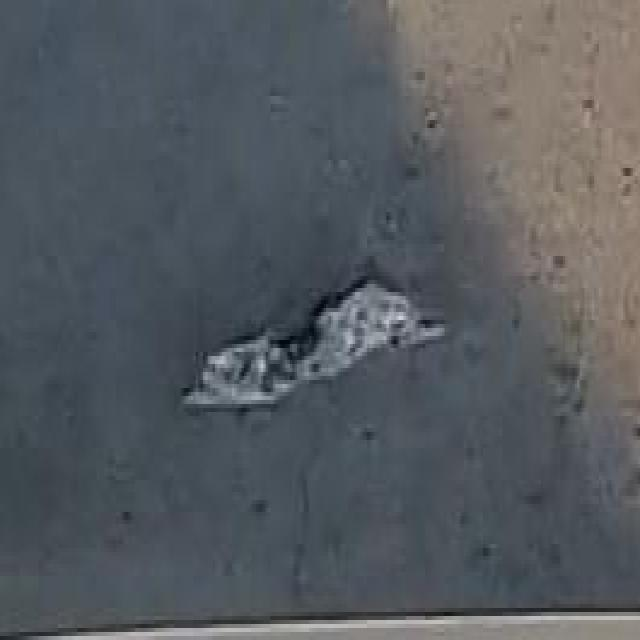Pothole: (184, 280, 445, 409)
